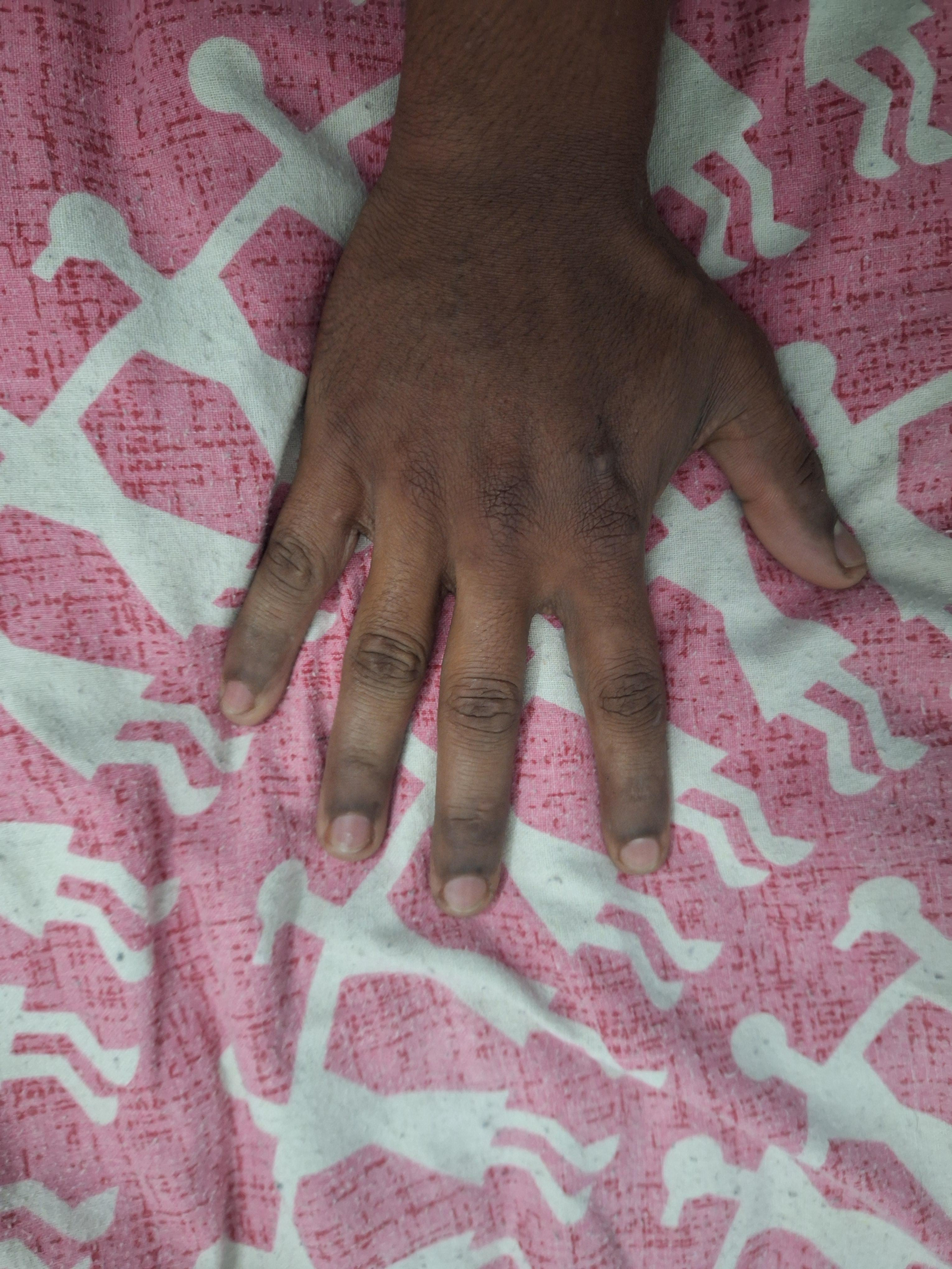Fingernail: (443, 877, 488, 913), (329, 815, 372, 852), (834, 520, 866, 567), (620, 838, 659, 874), (221, 681, 254, 716)
